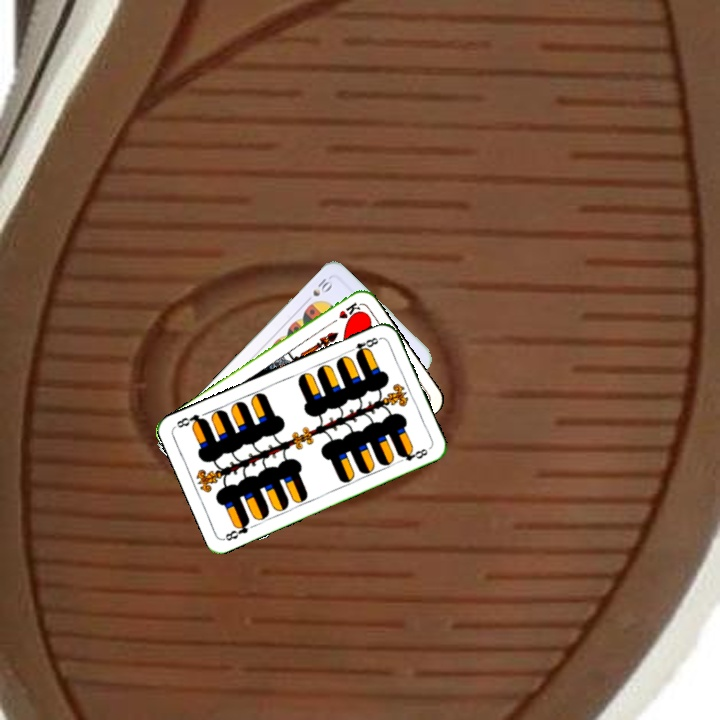E8: (344, 333, 383, 359), (220, 516, 252, 543)
HK: (326, 298, 363, 328)
S10: (308, 274, 335, 299)
